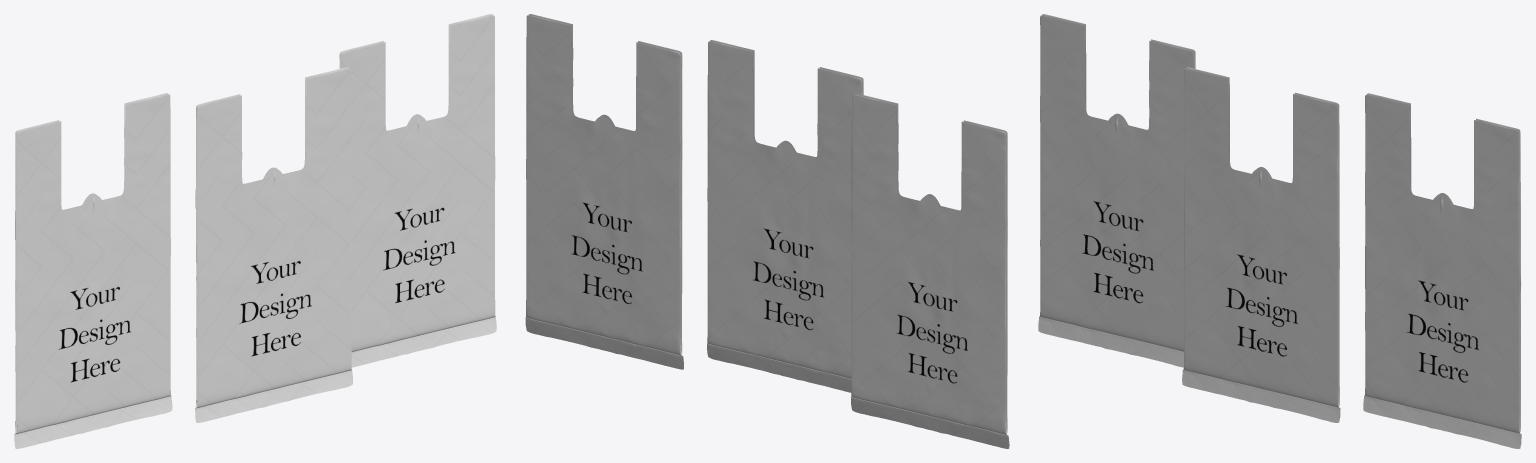
File: Bio de A-5.glb
3 views of the same model, side by side, from view 1: azimuth 30°, elevation 25°; view 2: azimuth 150°, elevation 25°; view 3: azimuth 330°, elevation 25° (orthographic).
Visible parts, largest first — view 1: Plane.004, Plane.002, Plane.003; view 2: Plane.004, Plane.003, Plane.002; view 3: Plane.003, Plane.002, Plane.004.
Part boxes in pixels (x1=…): Plane.004: x1=14, y1=93, x2=172, y2=448; Plane.002: x1=195, y1=67, x2=352, y2=422; Plane.003: x1=339, y1=14, x2=496, y2=367; Plane.004: x1=851, y1=93, x2=1009, y2=448; Plane.003: x1=525, y1=14, x2=683, y2=369; Plane.002: x1=707, y1=40, x2=863, y2=392; Plane.003: x1=1363, y1=93, x2=1521, y2=448; Plane.002: x1=1182, y1=67, x2=1340, y2=422; Plane.004: x1=1038, y1=14, x2=1195, y2=367.
Bounding box in the file's own units: 5.58 × 3.52 × 0.4246.
1 material, 1 textured.
